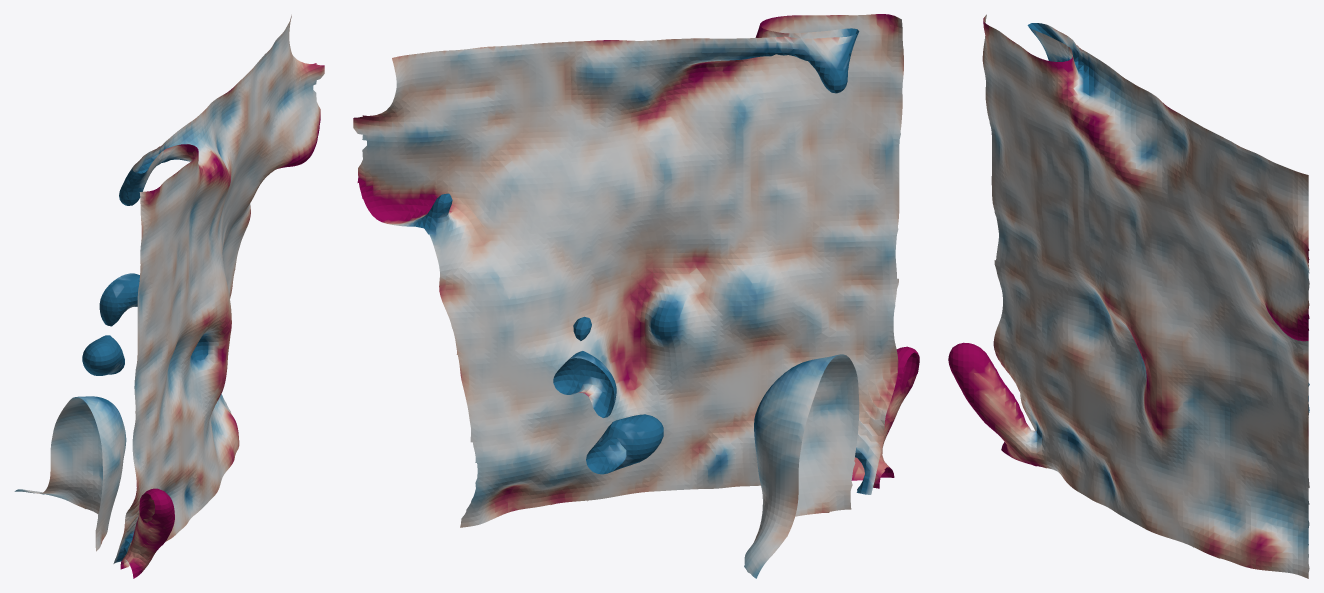
File: crop1119_deviation.glb
The picture shows the model from 3 angles, left to right: view 1: azimuth 30°, elevation 25°; view 2: azimuth 150°, elevation 25°; view 3: azimuth 270°, elevation 25°; orthographic projection. The views are drawn at different scales.
Parts seen in each view (by area): view 1: world; view 2: world; view 3: world.
Boxes of the visible parts, x1,y1,x2,y2 form: world: (14, 15, 324, 578); world: (353, 14, 919, 578); world: (948, 14, 1309, 578).
Size of the model in its own units: 1300 by 1479 by 1106.
